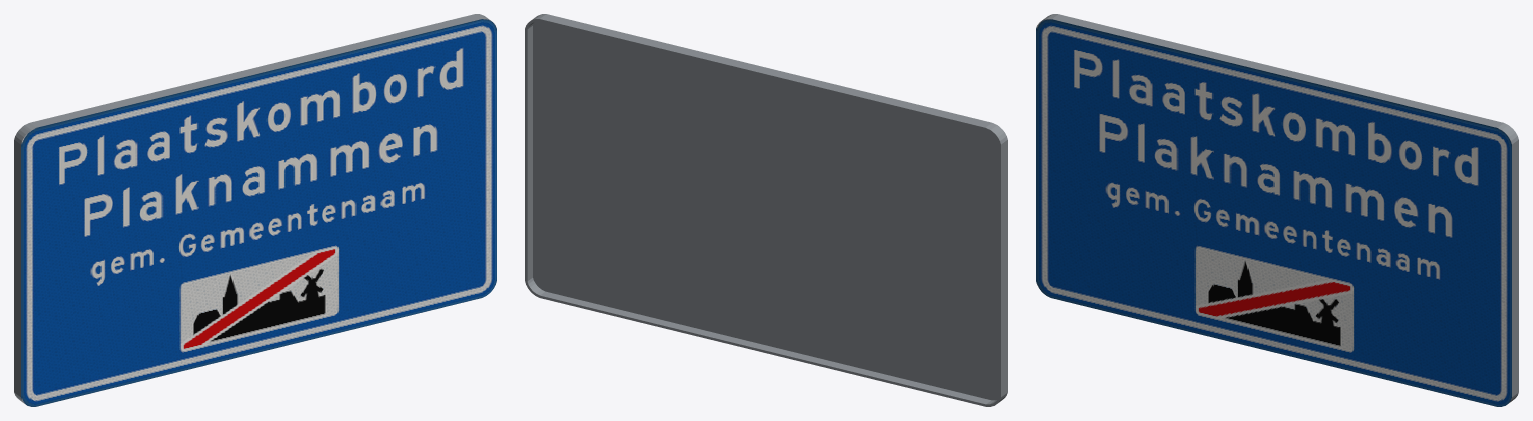
3 views of the same model, side by side, from view 1: azimuth 30°, elevation 25°; view 2: azimuth 150°, elevation 25°; view 3: azimuth 330°, elevation 25° (orthographic).
Parts seen in each view (by area): view 1: cat_de7c002f7b3bc7b4; view 2: cat_de7c002f7b3bc7b4; view 3: cat_de7c002f7b3bc7b4.
Part boxes in pixels (x1,y1,x2,y2): cat_de7c002f7b3bc7b4: [14, 14, 496, 406]; cat_de7c002f7b3bc7b4: [525, 14, 1007, 406]; cat_de7c002f7b3bc7b4: [1036, 14, 1518, 406].
Size of the model in its own units: 0.6 by 0.015 by 0.3361.
Materials: 2 (1 with a texture image).
